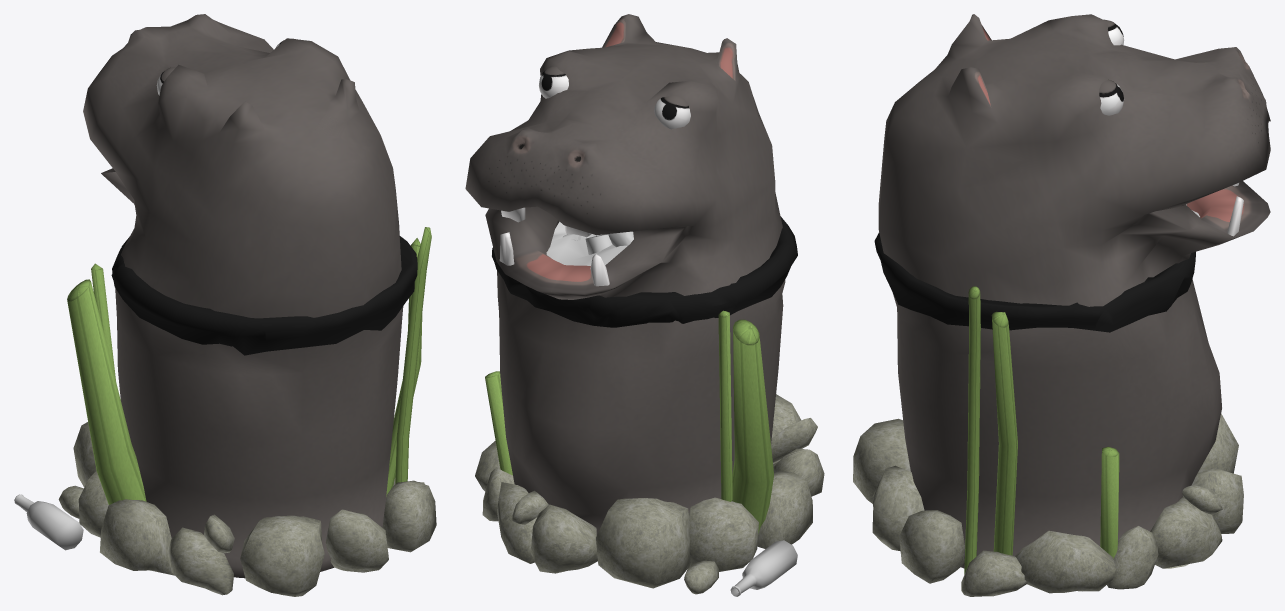
Rendered from HippoBin01Trash.fbx.
The picture shows the model from 3 angles, left to right: view 1: azimuth 30°, elevation 25°; view 2: azimuth 150°, elevation 25°; view 3: azimuth 270°, elevation 25°; orthographic projection. The views are drawn at different scales.
Visible parts, largest first — view 1: Cylinder, Plane, trash; view 2: Cylinder, Plane, trash; view 3: Cylinder, Plane.
Part boxes in pixels (x1,y1,x2,y2): Cylinder: [58, 14, 436, 596]; Plane: [111, 236, 417, 355]; trash: [14, 494, 83, 550]; Cylinder: [465, 14, 824, 594]; Plane: [492, 216, 797, 327]; trash: [546, 221, 797, 596]; Cylinder: [853, 14, 1270, 596]; Plane: [874, 232, 1195, 332].
Size of the model in its own units: 97.2 by 133 by 103.
